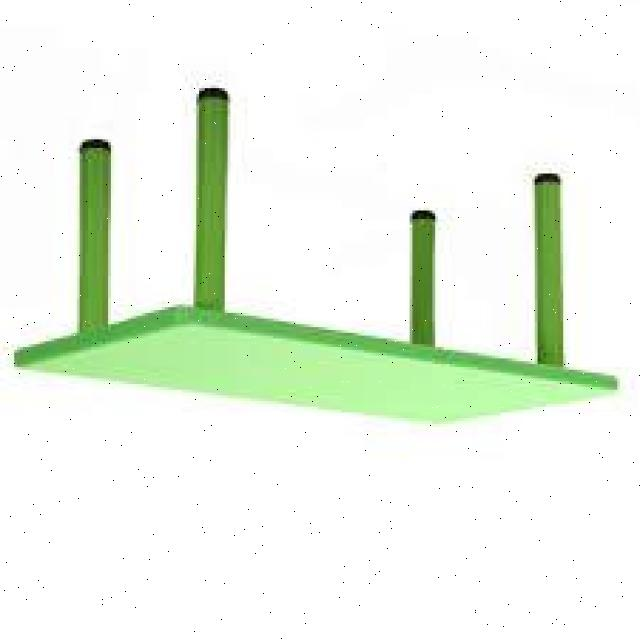mobile-phone: (15, 84, 618, 424)
